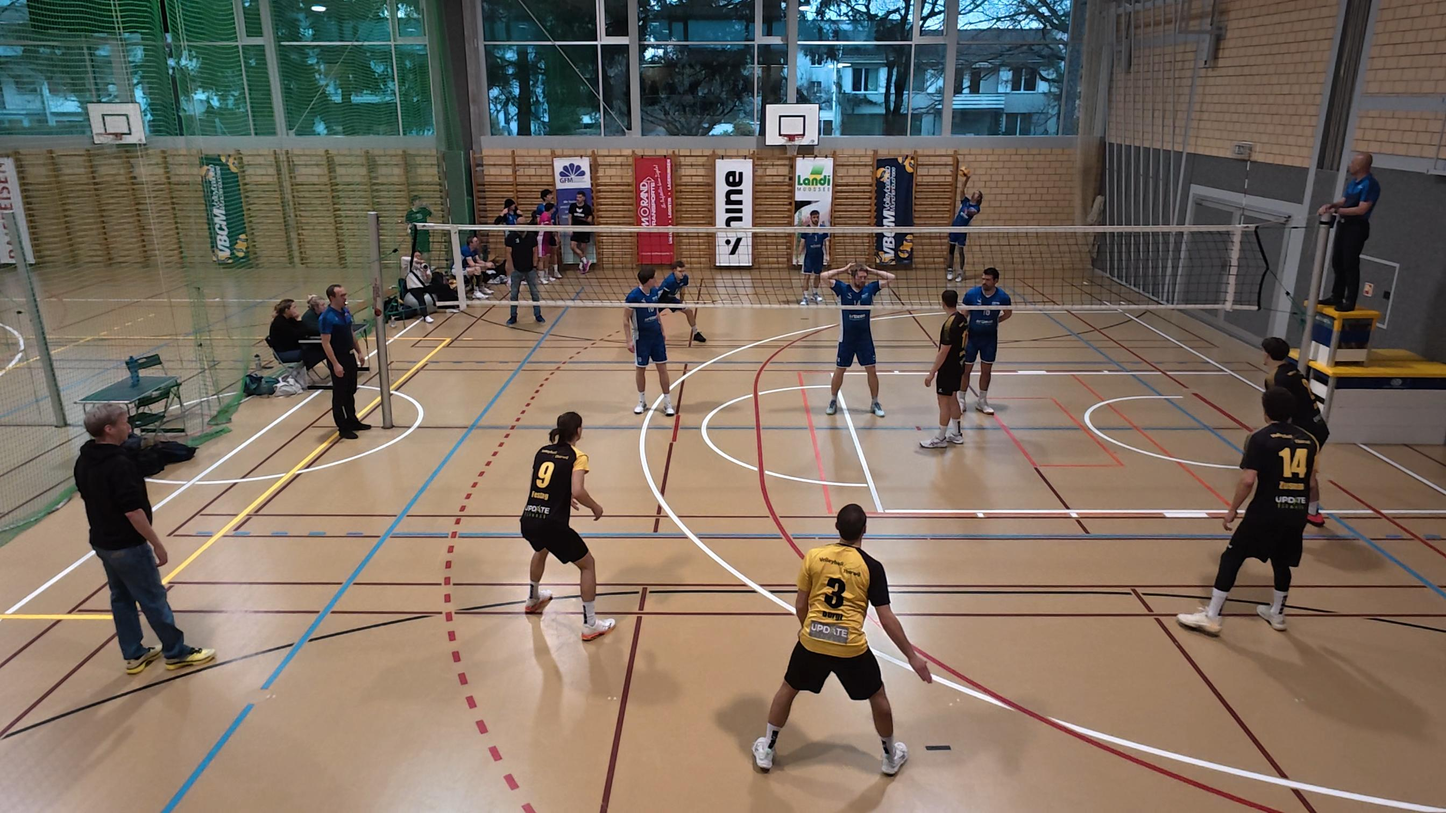Player: (751, 504, 931, 776), (1179, 387, 1320, 636), (519, 411, 614, 640), (1260, 337, 1330, 525), (821, 262, 893, 416), (917, 290, 970, 450), (621, 266, 677, 416), (960, 267, 1012, 414), (653, 258, 706, 344), (795, 210, 831, 305)
Serve: (937, 161, 983, 279)
ball: (956, 164, 972, 181)
